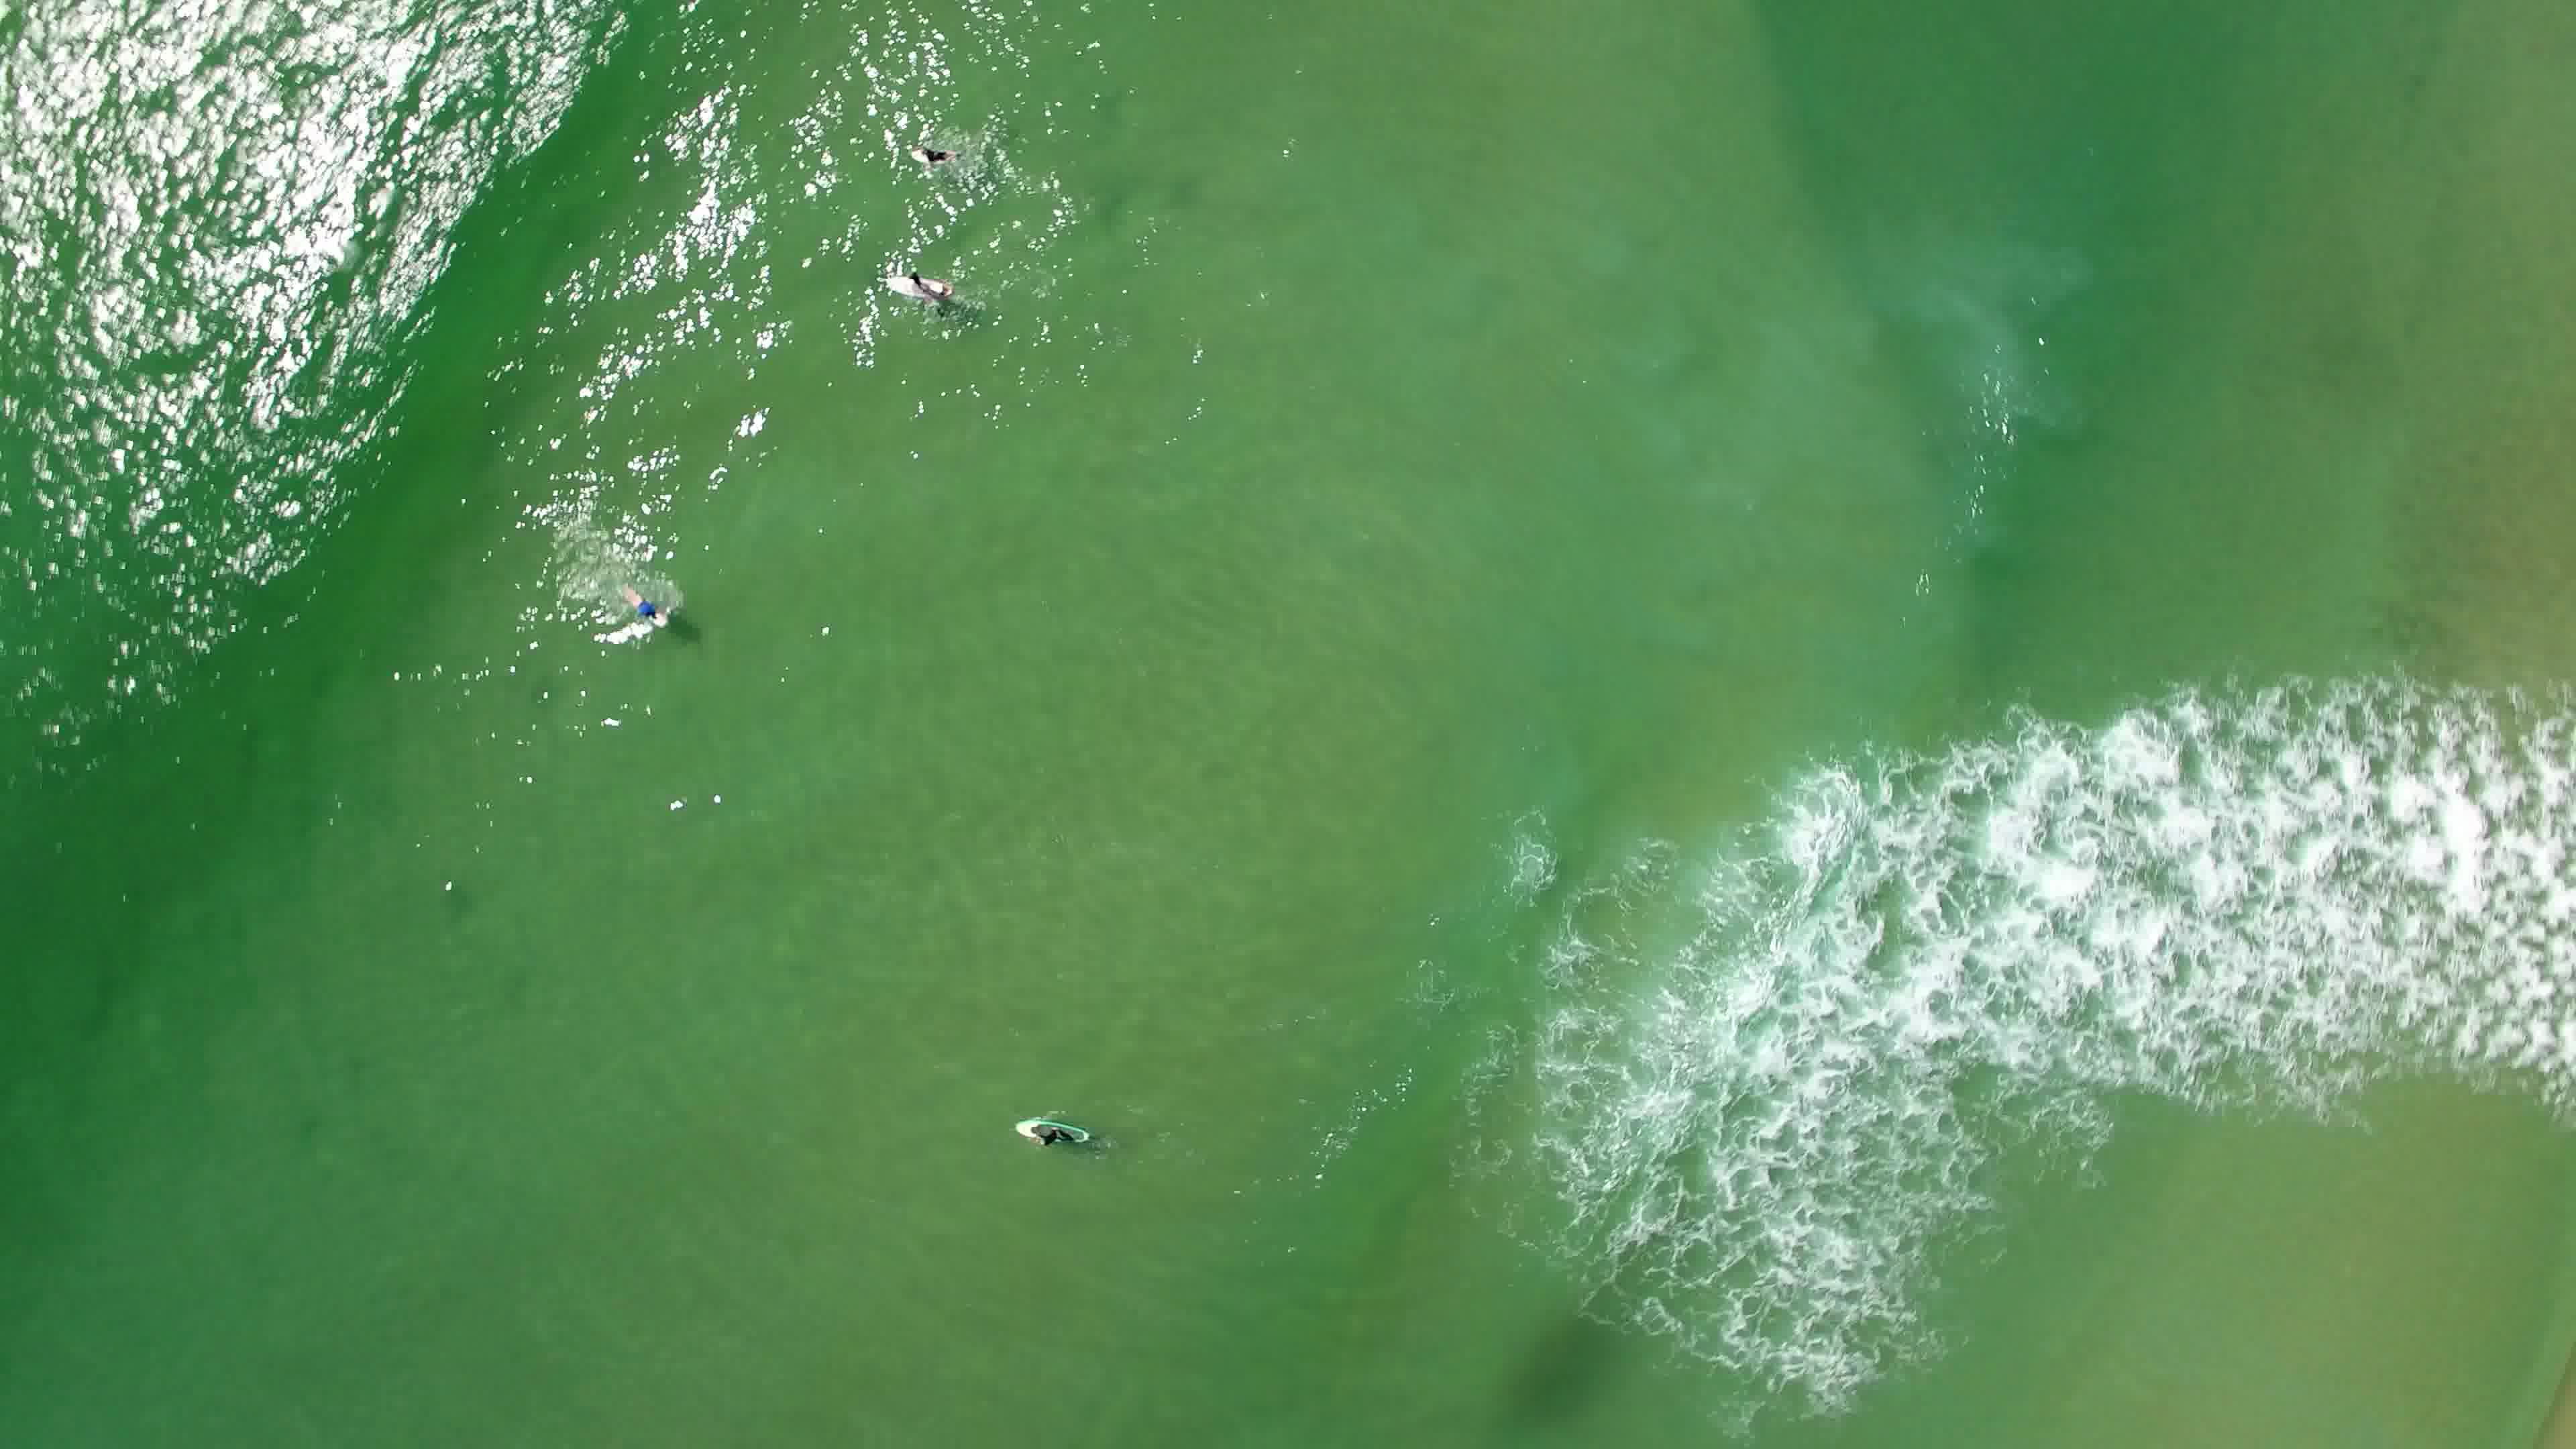surfer: (614, 570, 678, 635), (874, 257, 954, 308), (899, 138, 971, 180), (1014, 1118, 1095, 1152)
